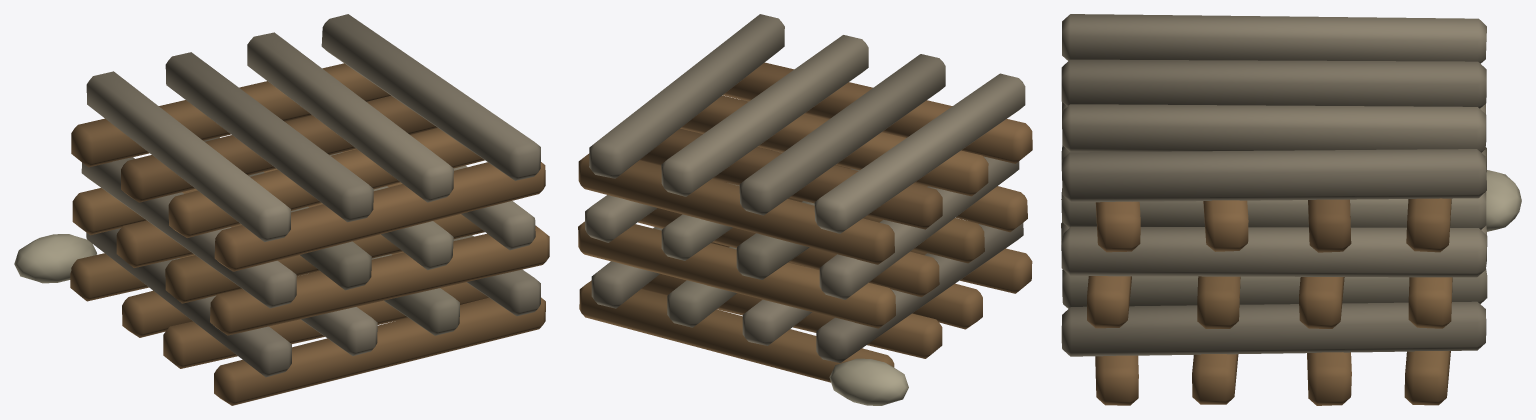
File: lagging_stack_a.glb
3 views of the same model, side by side, from view 1: azimuth 30°, elevation 25°; view 2: azimuth 150°, elevation 25°; view 3: azimuth 270°, elevation 25° (orthographic). The views are drawn at different scales.
Visible parts, largest first — view 1: Surface; view 2: Surface; view 3: Surface.
Part boxes in pixels (x1=…): Surface: x1=14, y1=14, x2=549, y2=405; Surface: x1=578, y1=14, x2=1032, y2=405; Surface: x1=1061, y1=14, x2=1521, y2=405.
Bounding box in the file's own units: 2.24 × 1.21 × 2.17.
